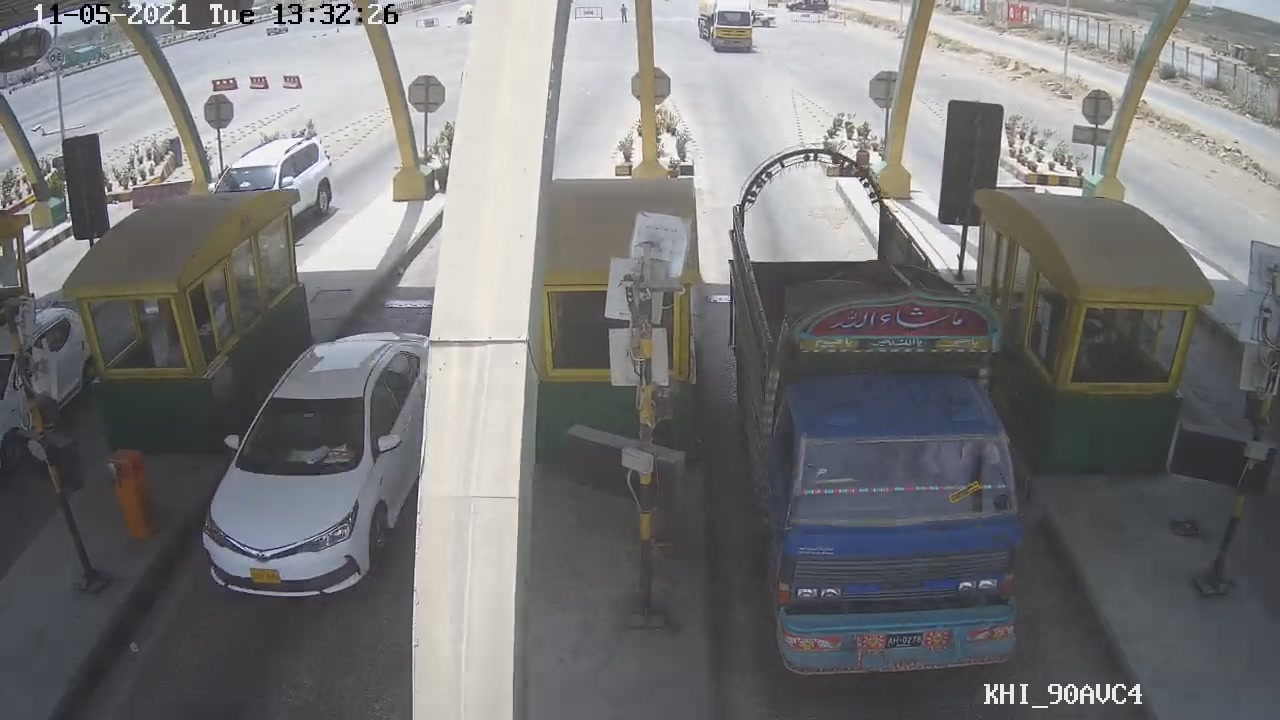F5: (722, 165, 1027, 686)
